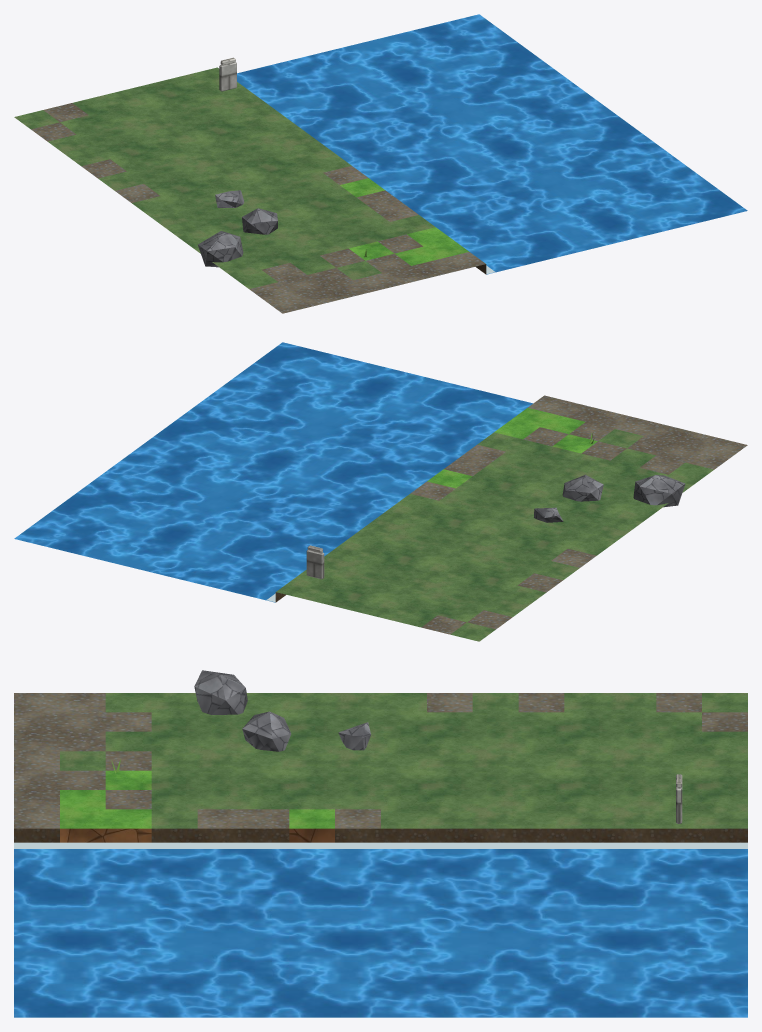
Rendered from chunk_3_20.glb.
The picture shows the model from 3 angles, top to bottom: view 1: azimuth 30°, elevation 25°; view 2: azimuth 150°, elevation 25°; view 3: azimuth 270°, elevation 25°; orthographic projection. The views are drawn at different scales.
Visible parts, largest first — view 1: chunk_3_20; view 2: chunk_3_20; view 3: chunk_3_20.
Part boxes in pixels (x1,y1,x2,y2): chunk_3_20: (14, 14, 747, 313); chunk_3_20: (14, 342, 747, 641); chunk_3_20: (14, 670, 747, 1017).
Size of the model in its own units: 16.22 by 1.35 by 16.
Materials: 12 (10 with a texture image).
